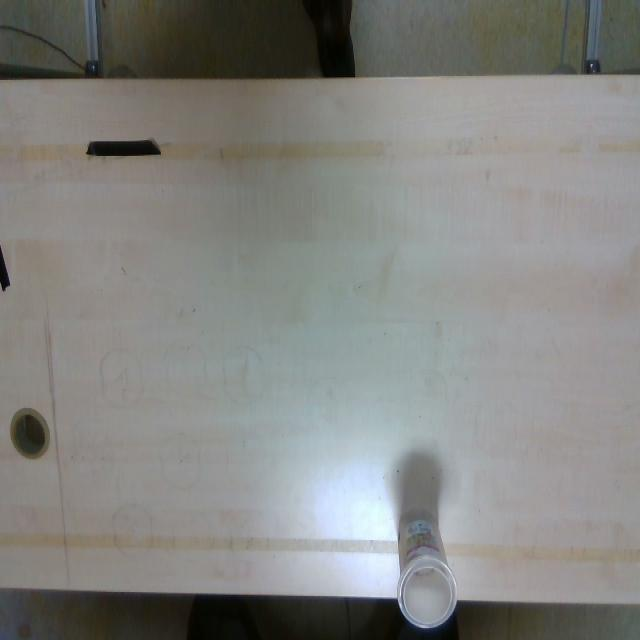cups: (395, 504, 459, 630)
